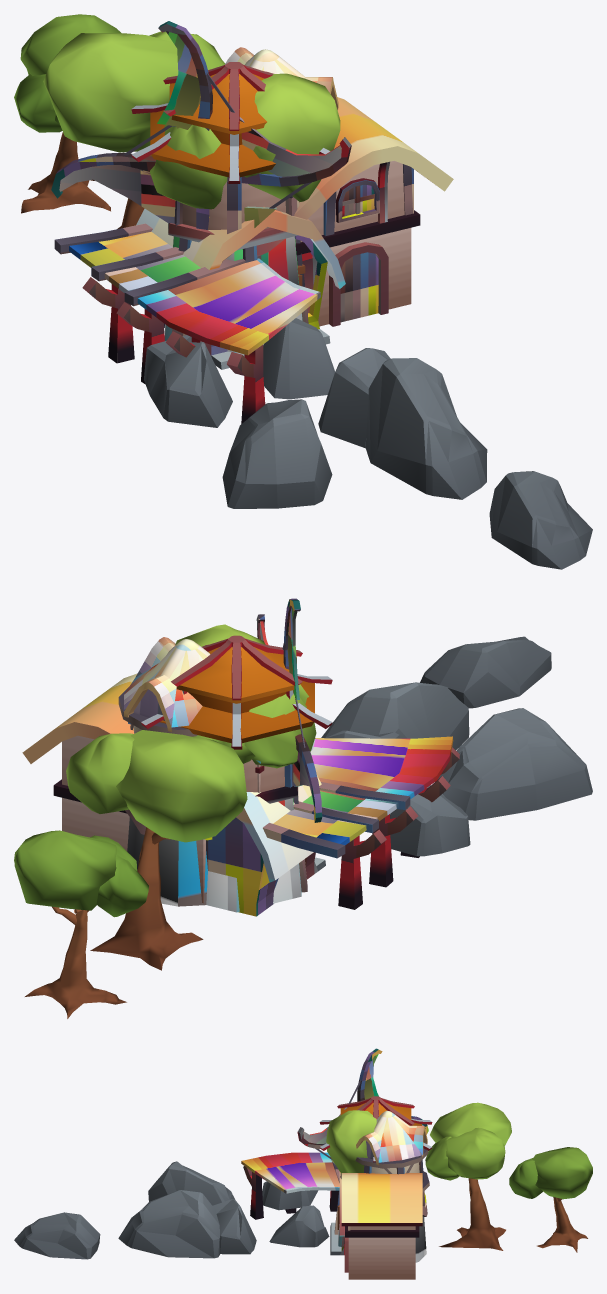
The model's file is asset.fbx.
The picture shows the model from 3 angles, top to bottom: view 1: azimuth 30°, elevation 25°; view 2: azimuth 150°, elevation 25°; view 3: azimuth 270°, elevation 25°; orthographic projection. The views are drawn at different scales.
Parts seen in each view (by area): view 1: house_4, stone_5, house_1, tree_1, house_2, tree_3, stone_3, stone_2, tree_2, house_3, stone_4, stone_1; view 2: house_4, tree_1, house_1, tree_2, house_2, stone_3, house_3, stone_5, stone_2, tree_3, stone_4; view 3: house_4, tree_1, stone_5, house_2, tree_2, stone_2, tree_3, stone_3, stone_1, house_1, stone_4, house_3.
Part boxes in pixels (x1=…): house_4: x1=54, y1=97, x2=453, y2=423; stone_5: x1=318, y1=348, x2=487, y2=499; house_1: x1=131, y1=62, x2=330, y2=352; tree_1: x1=43, y1=31, x2=225, y2=229; house_2: x1=51, y1=21, x2=351, y2=326; tree_3: x1=149, y1=73, x2=340, y2=209; stone_3: x1=222, y1=399, x2=332, y2=508; stone_2: x1=489, y1=471, x2=592, y2=569; tree_2: x1=14, y1=14, x2=121, y2=213; house_3: x1=136, y1=207, x2=345, y2=369; stone_4: x1=144, y1=335, x2=232, y2=427; stone_1: x1=263, y1=318, x2=334, y2=399; house_4: x1=22, y1=673, x2=459, y2=909; tree_1: x1=66, y1=730, x2=247, y2=970; house_1: x1=141, y1=635, x2=332, y2=912; tree_2: x1=14, y1=830, x2=148, y2=1018; house_2: x1=118, y1=598, x2=322, y2=906; stone_3: x1=438, y1=708, x2=592, y2=820; house_3: x1=206, y1=775, x2=325, y2=916; stone_5: x1=321, y1=682, x2=469, y2=750; stone_2: x1=420, y1=636, x2=551, y2=708; tree_3: x1=175, y1=624, x2=316, y2=768; stone_4: x1=390, y1=785, x2=470, y2=856; house_4: x1=241, y1=1152, x2=422, y2=1279; tree_1: x1=425, y1=1102, x2=511, y2=1250; stone_5: x1=118, y1=1190, x2=256, y2=1258; house_2: x1=297, y1=1048, x2=429, y2=1262; tree_2: x1=509, y1=1147, x2=592, y2=1252; stone_2: x1=14, y1=1212, x2=100, y2=1259; tree_3: x1=326, y1=1110, x2=376, y2=1173; stone_3: x1=148, y1=1161, x2=234, y2=1205; stone_1: x1=269, y1=1205, x2=329, y2=1247; house_1: x1=319, y1=1096, x2=432, y2=1248; stone_4: x1=262, y1=1181, x2=318, y2=1210; house_3: x1=330, y1=1172, x2=344, y2=1255.
Size of the model in its own units: 103 by 82.99 by 246.
1 material, 1 textured.
